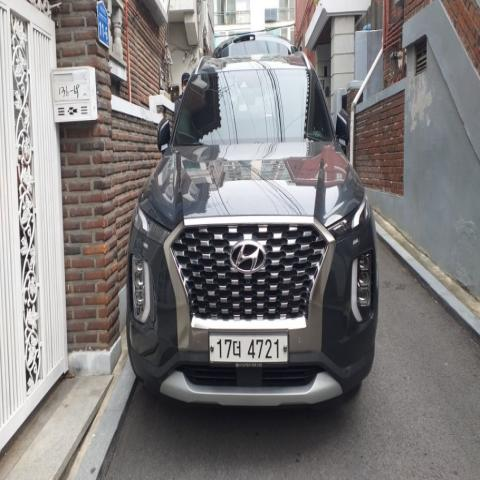LP: (203, 330, 293, 376)
